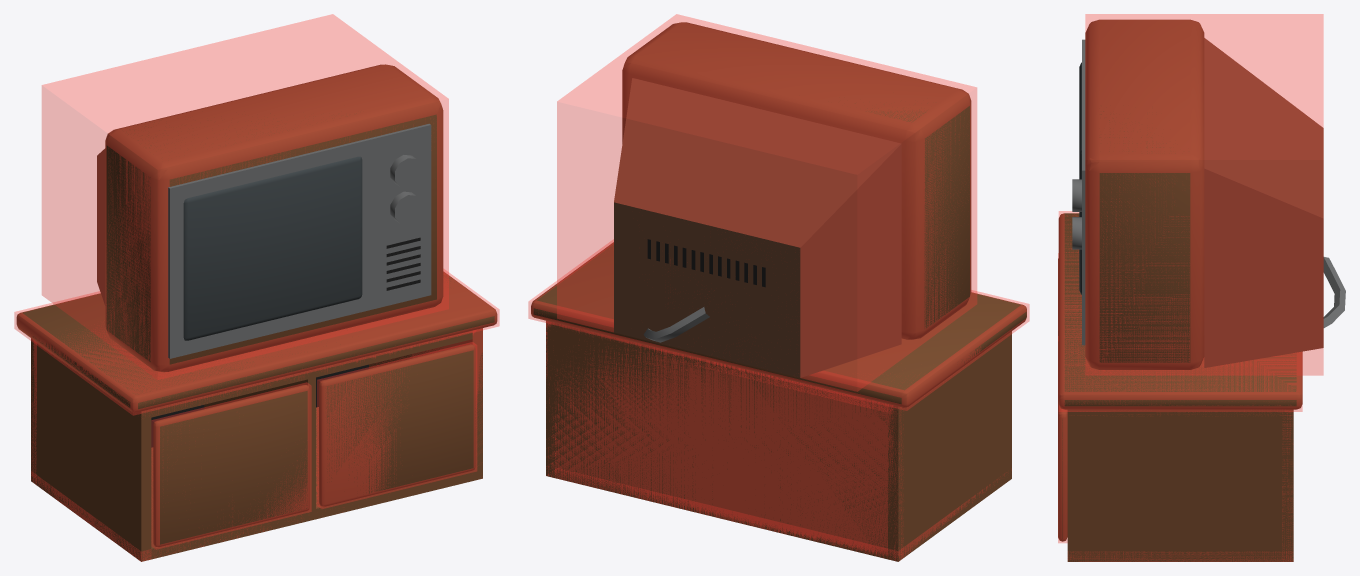
Rendered from TVStandT04.glb.
3 views of the same model, side by side, from view 1: azimuth 30°, elevation 25°; view 2: azimuth 150°, elevation 25°; view 3: azimuth 270°, elevation 25° (orthographic). The views are drawn at different scales.
Visible parts, largest first — view 1: Body_Wood, Col_TV, Body_Screen, DoorR_HingeR_Wood, DoorL_HingeL_Wood, Body_Gray, Col_StandTop, Col_DoorR_HingeR, Col_DoorL_HingeL, Body_Dark, Col_StandBottom, Body_BackShell (+1 smaller); view 2: Body_Wood, Col_TV, Body_BackShell, Col_StandBack, Col_StandTop (×2), Col_StandBottom, Body_Dark, Body_Gray; view 3: Body_Wood, Col_TV, Body_BackShell, Col_StandTop, Body_Gray, Col_DoorR_HingeR, DoorR_HingeR_Wood, Col_StandBottom, Body_Screen.
Boxes of the visible parts, left/top/right/bottom form: Body_Wood: left=16, top=64, right=497, bottom=561; Col_TV: left=42, top=14, right=448, bottom=379; Body_Screen: left=183, top=156, right=362, bottom=340; DoorR_HingeR_Wood: left=319, top=344, right=475, bottom=506; DoorL_HingeL_Wood: left=153, top=385, right=309, bottom=547; Body_Gray: left=168, top=123, right=431, bottom=358; Col_StandTop: left=14, top=269, right=499, bottom=415; Col_DoorR_HingeR: left=317, top=342, right=476, bottom=508; Col_DoorL_HingeL: left=151, top=382, right=311, bottom=549; Body_Dark: left=151, top=237, right=420, bottom=447; Col_StandBottom: left=31, top=407, right=481, bottom=561; Body_BackShell: left=97, top=149, right=105, bottom=305; Body_Wood: left=531, top=22, right=1026, bottom=561; Col_TV: left=557, top=14, right=976, bottom=391; Body_BackShell: left=614, top=78, right=901, bottom=377; Col_StandBack: left=546, top=333, right=903, bottom=560; Col_StandTop (×2): left=528, top=239, right=1029, bottom=413; Col_StandBottom: left=555, top=468, right=1004, bottom=559; Body_Dark: left=647, top=239, right=765, bottom=287; Body_Gray: left=643, top=307, right=709, bottom=342; Body_Wood: left=1058, top=19, right=1302, bottom=561; Col_TV: left=1085, top=14, right=1323, bottom=375; Body_BackShell: left=1204, top=38, right=1323, bottom=367; Col_StandTop: left=1059, top=211, right=1302, bottom=411; Body_Gray: left=1072, top=39, right=1345, bottom=345; Col_DoorR_HingeR: left=1058, top=336, right=1067, bottom=542; DoorR_HingeR_Wood: left=1058, top=341, right=1067, bottom=541; Col_StandBottom: left=1068, top=551, right=1292, bottom=561; Body_Screen: left=1079, top=62, right=1081, bottom=294.
Bounding box in the file's own units: 3.65 × 3.61 × 2.42.
